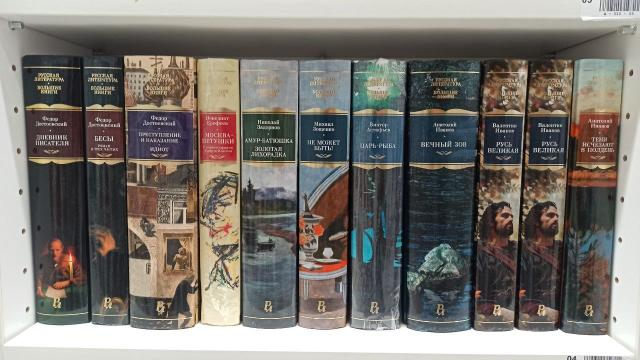book-s-spine: (407, 61, 481, 329), (124, 57, 194, 327), (23, 56, 88, 323), (564, 60, 623, 334), (241, 61, 298, 326), (351, 61, 407, 328), (519, 60, 574, 330), (475, 61, 528, 331), (300, 61, 351, 327), (83, 57, 128, 325), (198, 60, 239, 323)
